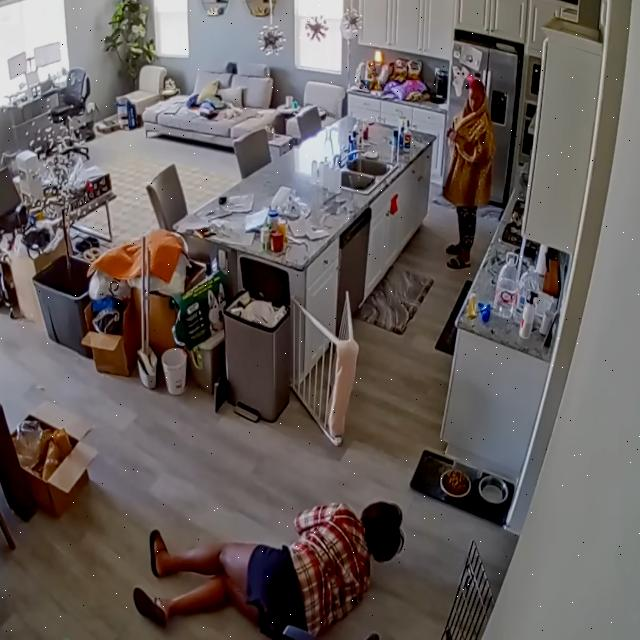fallen: (134, 501, 404, 639)
standing: (443, 76, 495, 269)
